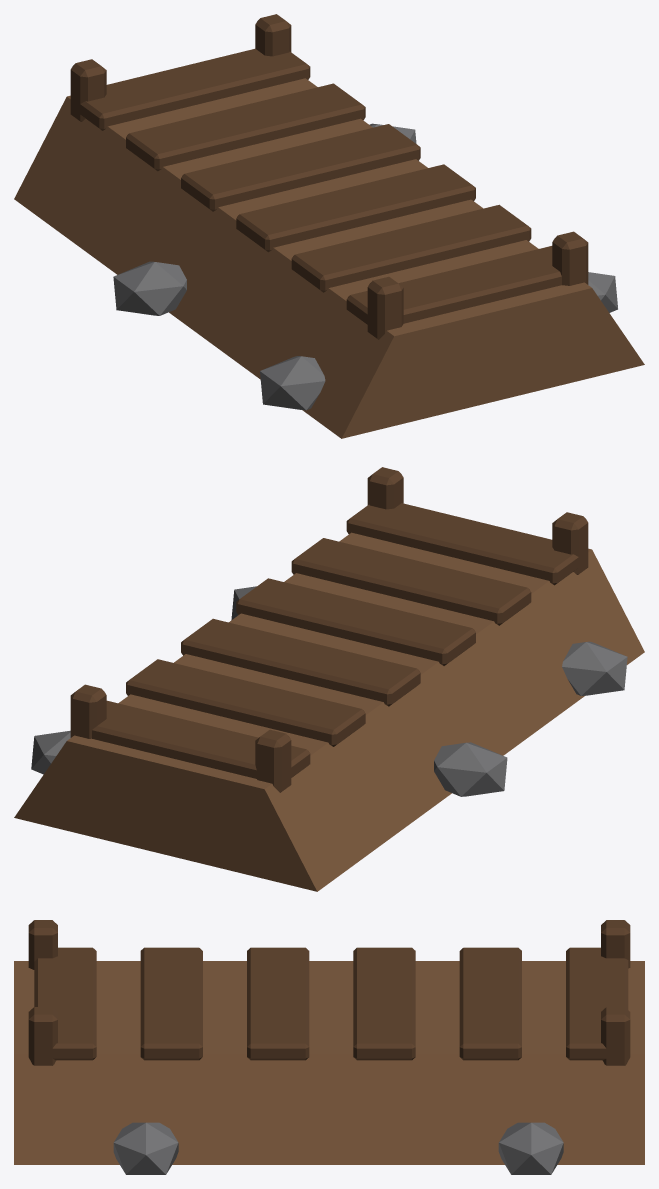
The model's file is bridge.glb.
The picture shows the model from 3 angles, top to bottom: view 1: azimuth 30°, elevation 25°; view 2: azimuth 150°, elevation 25°; view 3: azimuth 270°, elevation 25°; orthographic projection. The views are drawn at different scales.
Parts seen in each view (by area): view 1: bridge; view 2: bridge; view 3: bridge.
Part boxes in pixels (box(x1,y1,x2,y2)): bridge: box(14, 14, 644, 438); bridge: box(14, 467, 644, 891); bridge: box(14, 920, 644, 1174).
Size of the model in its own units: 1.17 by 0.408 by 1.72.
Materials: 1 (1 with a texture image).
